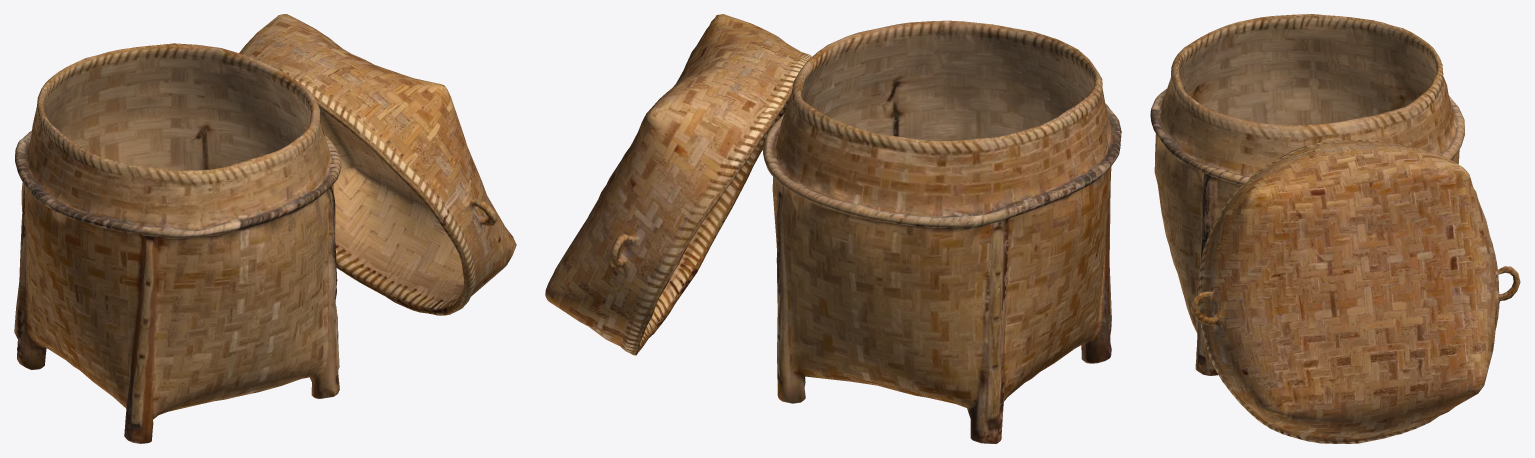
Rendered from wicker_basket_02.glb.
3 views of the same model, side by side, from view 1: azimuth 30°, elevation 25°; view 2: azimuth 150°, elevation 25°; view 3: azimuth 270°, elevation 25° (orthographic). The views are drawn at different scales.
Parts seen in each view (by area): view 1: wicker_basket_02_base, wicker_basket_02_lid; view 2: wicker_basket_02_base, wicker_basket_02_lid; view 3: wicker_basket_02_lid, wicker_basket_02_base.
Boxes of the visible parts, box(x1,y1,x2,y2) form: wicker_basket_02_base: box(14, 43, 341, 443); wicker_basket_02_lid: box(239, 14, 516, 315); wicker_basket_02_base: box(763, 20, 1121, 443); wicker_basket_02_lid: box(545, 14, 812, 355); wicker_basket_02_lid: box(1190, 140, 1520, 443); wicker_basket_02_base: box(1150, 14, 1464, 375).
Size of the model in its own units: 0.3469 by 0.2005 by 0.2544.
Materials: 1 (1 with a texture image).
